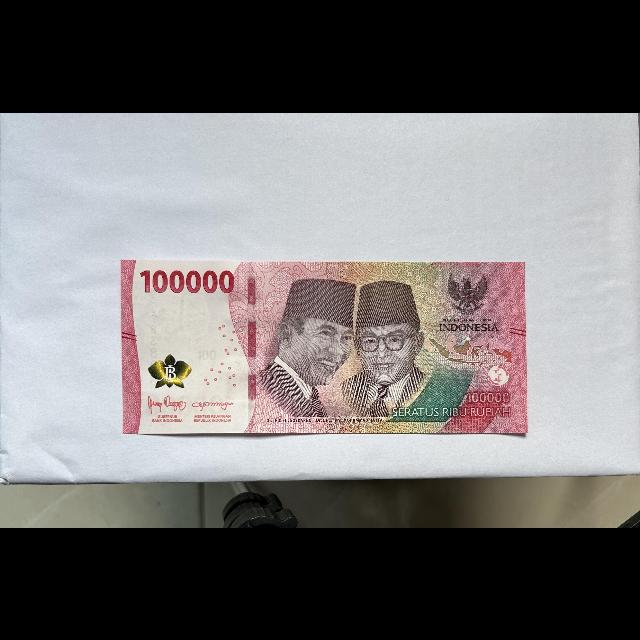Asli-100k: (119, 257, 529, 435)
Tinta-Asli-100k: (147, 352, 193, 389)
